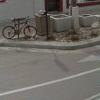Bicycle: (3, 11, 37, 44)
